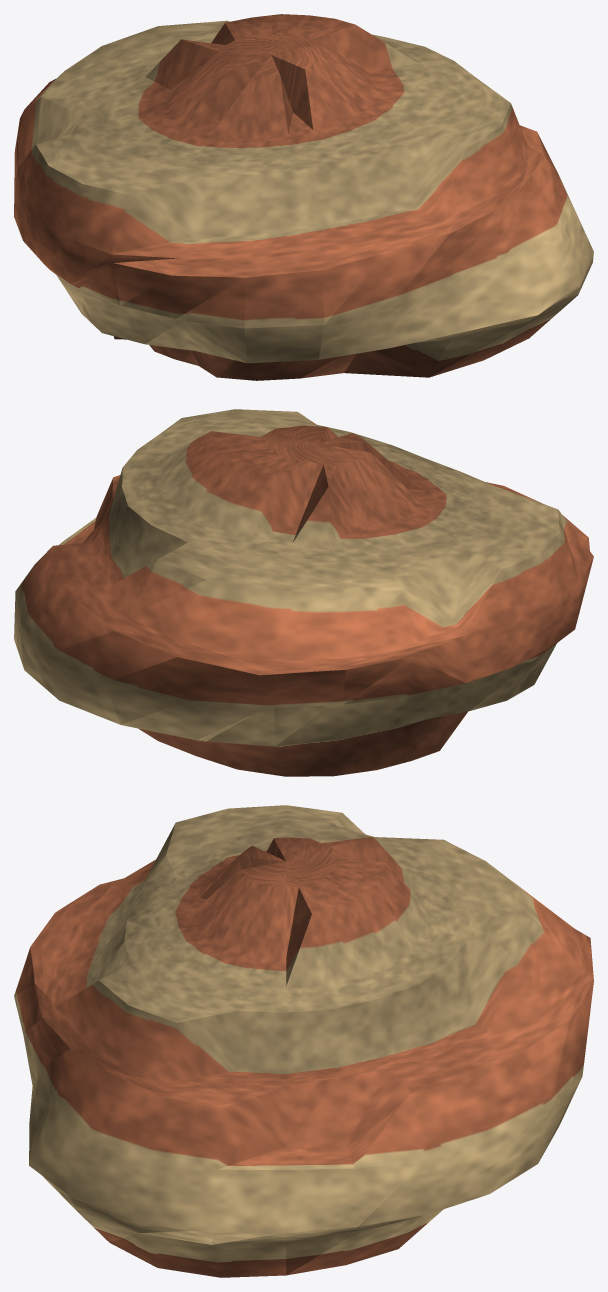
Rendered from SM_Desert_Rock_B.glb.
The picture shows the model from 3 angles, top to bottom: view 1: azimuth 30°, elevation 25°; view 2: azimuth 150°, elevation 25°; view 3: azimuth 270°, elevation 25°; orthographic projection. The views are drawn at different scales.
Parts seen in each view (by area): view 1: SM_Desert_Rock_B; view 2: SM_Desert_Rock_B; view 3: SM_Desert_Rock_B.
Part boxes in pixels (x1,y1,x2,y2): SM_Desert_Rock_B: (14, 14, 593, 380); SM_Desert_Rock_B: (14, 409, 593, 776); SM_Desert_Rock_B: (14, 805, 593, 1277).
Bounding box in the file's own units: 1.2 × 0.603 × 1.09.
1 material, 1 textured.
